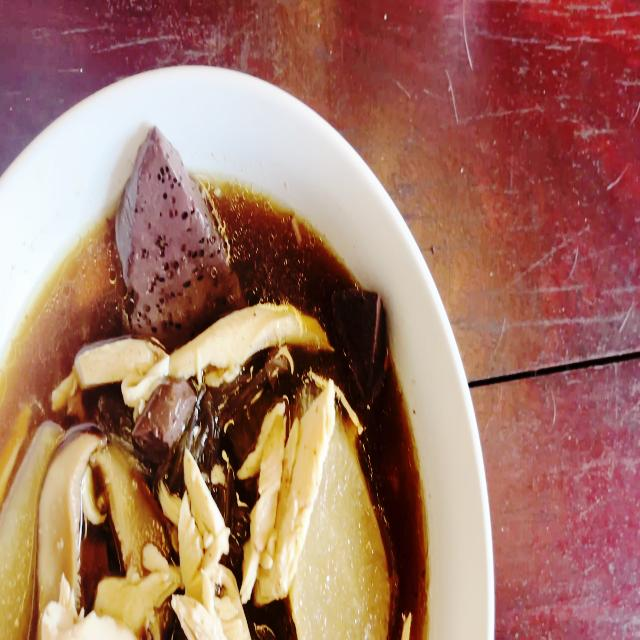boiled_chicken_blood_jelly: (111, 122, 235, 356), (326, 274, 390, 416), (138, 376, 190, 456)
chicken_shredded: (246, 378, 323, 611), (70, 323, 328, 369), (170, 463, 237, 640), (54, 564, 172, 640)
daikon_radish: (303, 447, 391, 640), (0, 422, 44, 640)
noodle: (5, 192, 418, 638)
